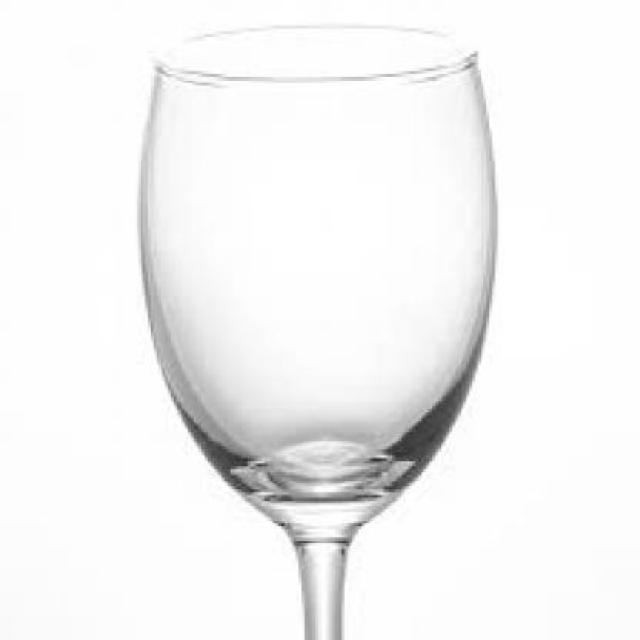kaca: (137, 23, 492, 637)
